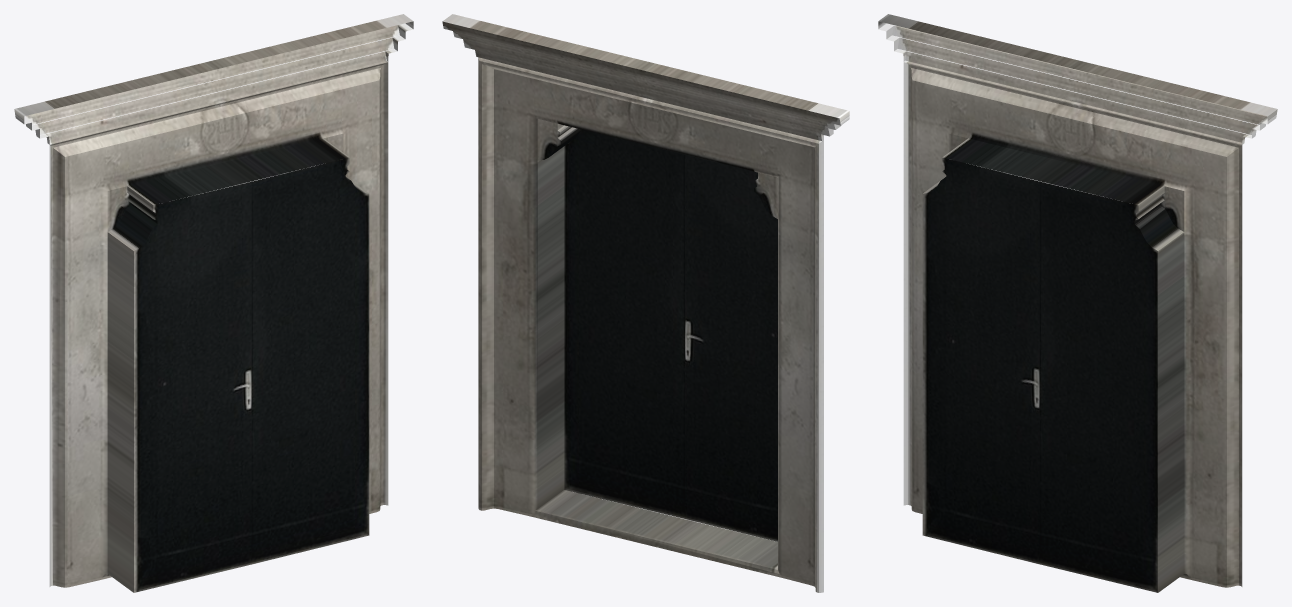
File: sponza_vrata_ko.FBX
3 views of the same model, side by side, from view 1: azimuth 30°, elevation 25°; view 2: azimuth 150°, elevation 25°; view 3: azimuth 330°, elevation 25° (orthographic). The views are drawn at different scales.
Parts seen in each view (by area): view 1: Door_01-vrata_ko; view 2: Door_01-vrata_ko; view 3: Door_01-vrata_ko.
Boxes of the visible parts, x1,y1,x2,y2 form: Door_01-vrata_ko: [14, 14, 413, 592]; Door_01-vrata_ko: [442, 14, 849, 592]; Door_01-vrata_ko: [878, 14, 1277, 592].
Size of the model in its own units: 2.48 by 2.91 by 0.4733.
1 material, 1 textured.
